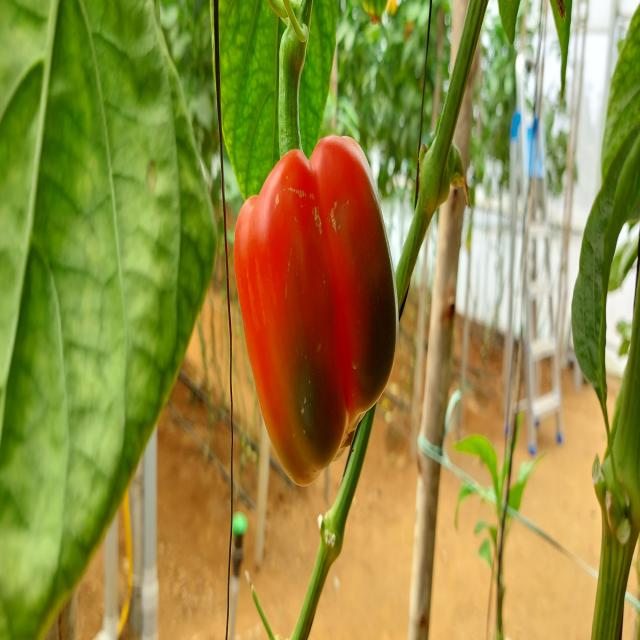Red-Ready-to-Harvest: (218, 132, 415, 510)
